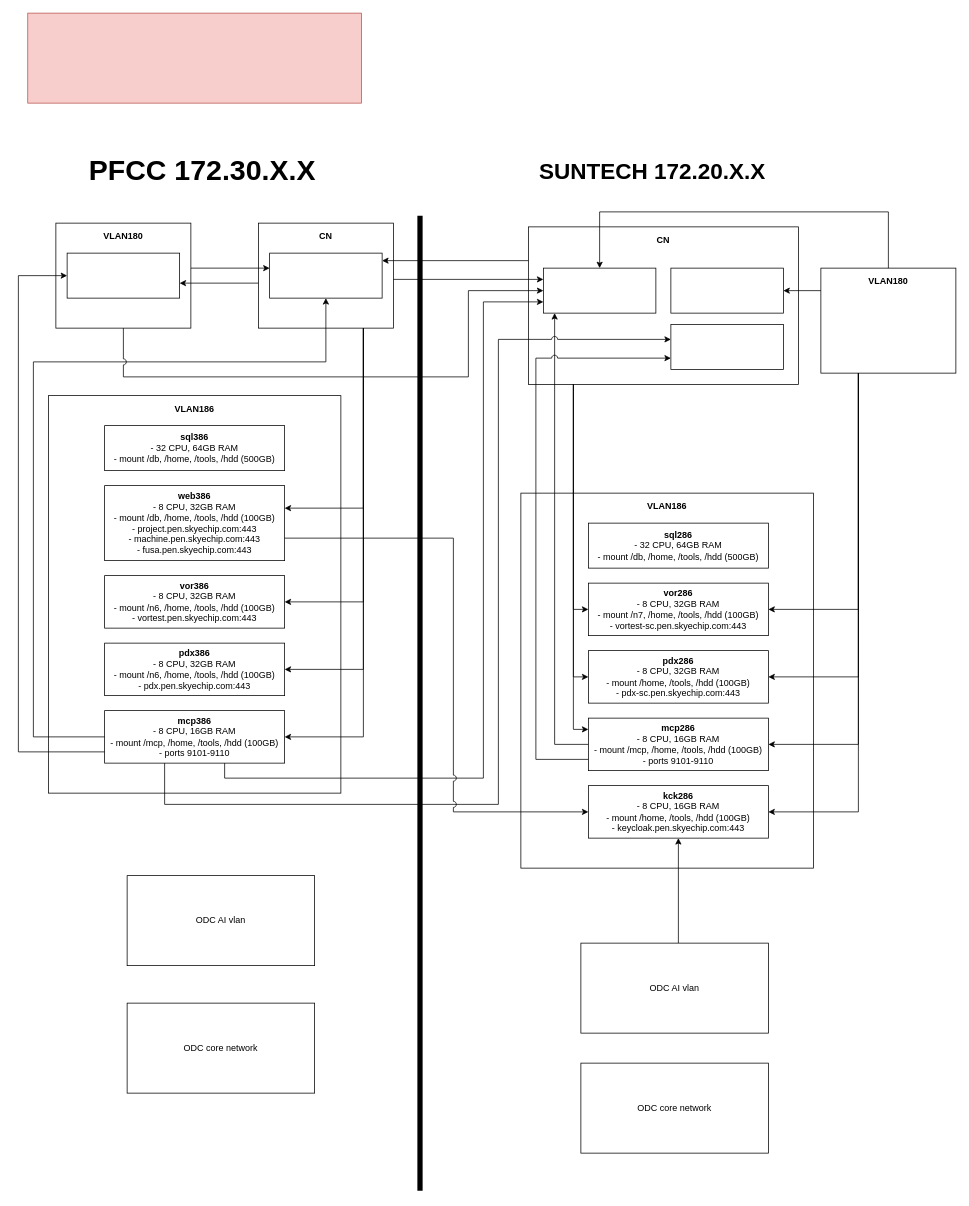
This 969x1206 diagram has some shape labels left out. The centre of each missing label's shape, as x and y in pixels:
"jen50 - ports 8080, 8081, 29418" belongs at point 726,290.
"jen80 - ports 8080, 8081, 29418" belongs at point 325,275.
"jen81 - ports 8080, 8081, 29418" belongs at point 123,275.
"openproject - ports 8080, 5432" belongs at point 599,290.
"smai50 - port 11434" belongs at point 726,346.
"VLAN186 - only mount /home for ITEC, DA, and AI members" belongs at point 194,57.
